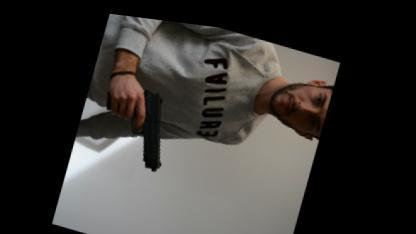pistol: (92, 74, 182, 170)
